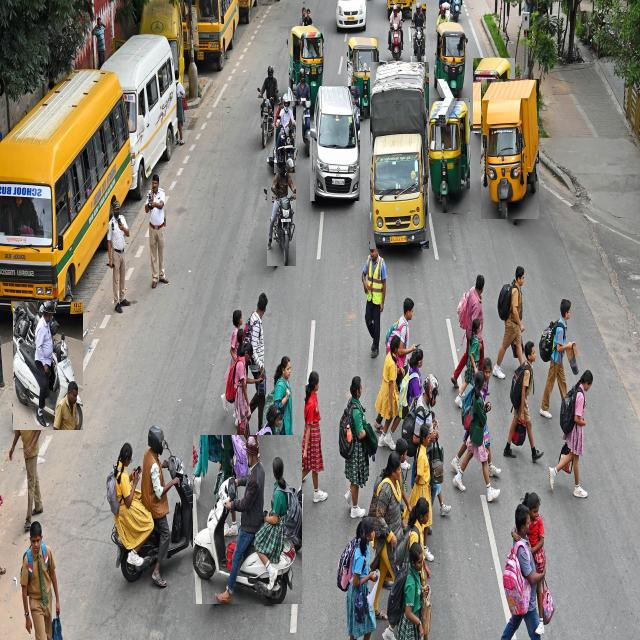autorickshaw: (481, 80, 539, 219), (429, 98, 470, 213), (473, 58, 514, 133), (288, 27, 324, 101), (348, 38, 379, 119), (434, 22, 466, 93)
bus: (0, 69, 131, 315), (101, 33, 178, 198)
car: (310, 87, 360, 201)
motorcycle: (193, 436, 301, 604), (106, 427, 200, 589), (13, 302, 82, 430), (267, 157, 295, 266), (274, 94, 296, 173), (259, 67, 279, 147), (300, 69, 316, 156), (412, 5, 425, 64), (390, 5, 402, 60)
truck: (370, 62, 429, 249)
